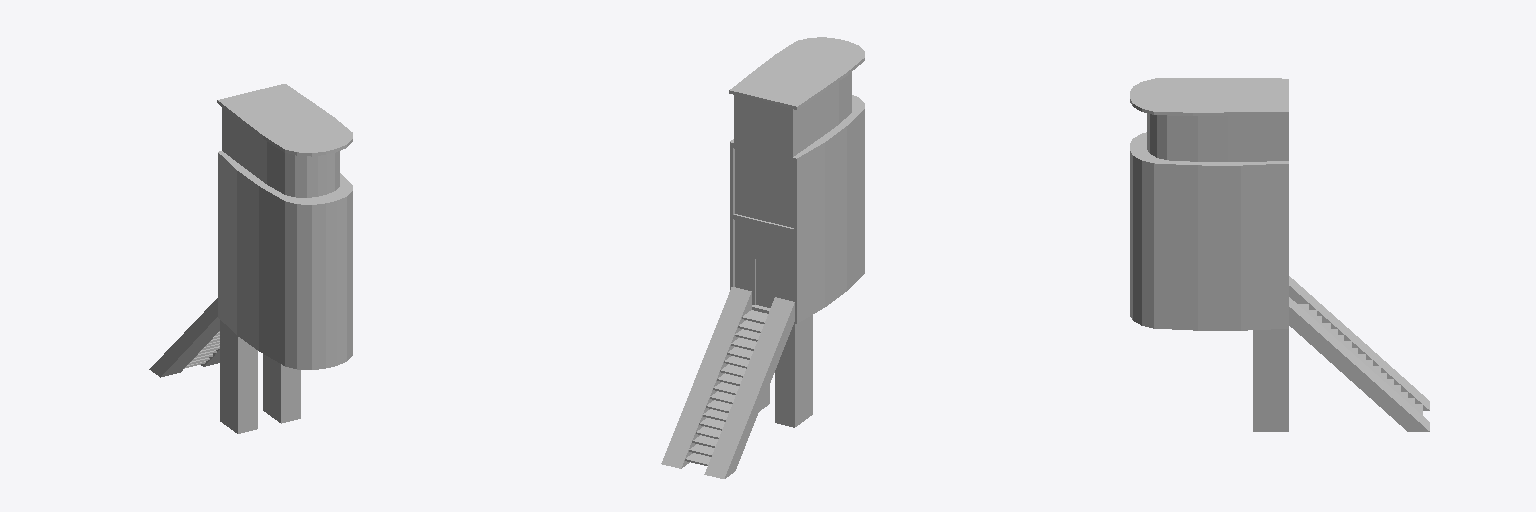
File: Detail-01.obj
3 views of the same model, side by side, from view 1: azimuth 30°, elevation 25°; view 2: azimuth 150°, elevation 25°; view 3: azimuth 270°, elevation 25° (orthographic).
Visible parts, largest first — view 1: Detail-01; view 2: Detail-01; view 3: Detail-01.
Part boxes in pixels (bbox=[...]): Detail-01: bbox=[149, 84, 352, 433]; Detail-01: bbox=[661, 37, 864, 478]; Detail-01: bbox=[1130, 78, 1429, 431].
Size of the model in its own units: 3.8 by 15.38 by 13.04.